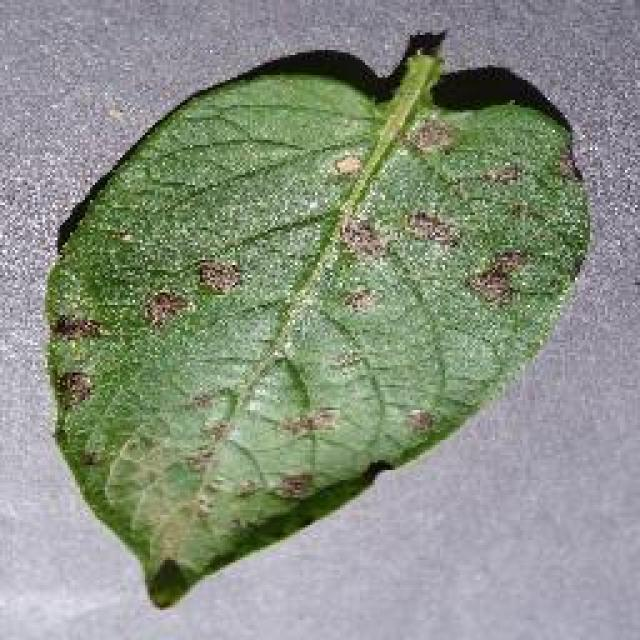Potato___Early_blight: (40, 44, 598, 620)
